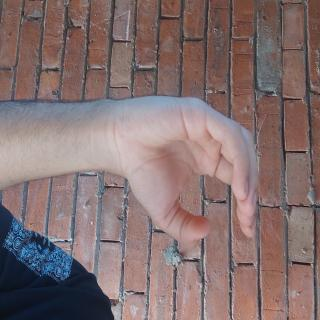JEEM: (63, 70, 188, 298)
